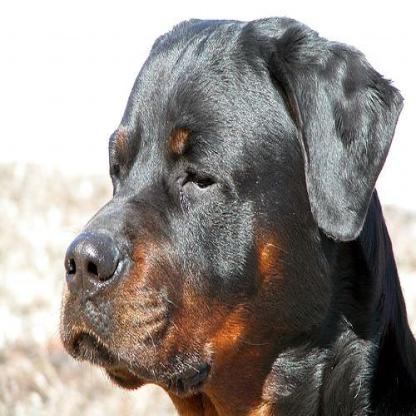Rottweiler: (60, 14, 414, 414)
